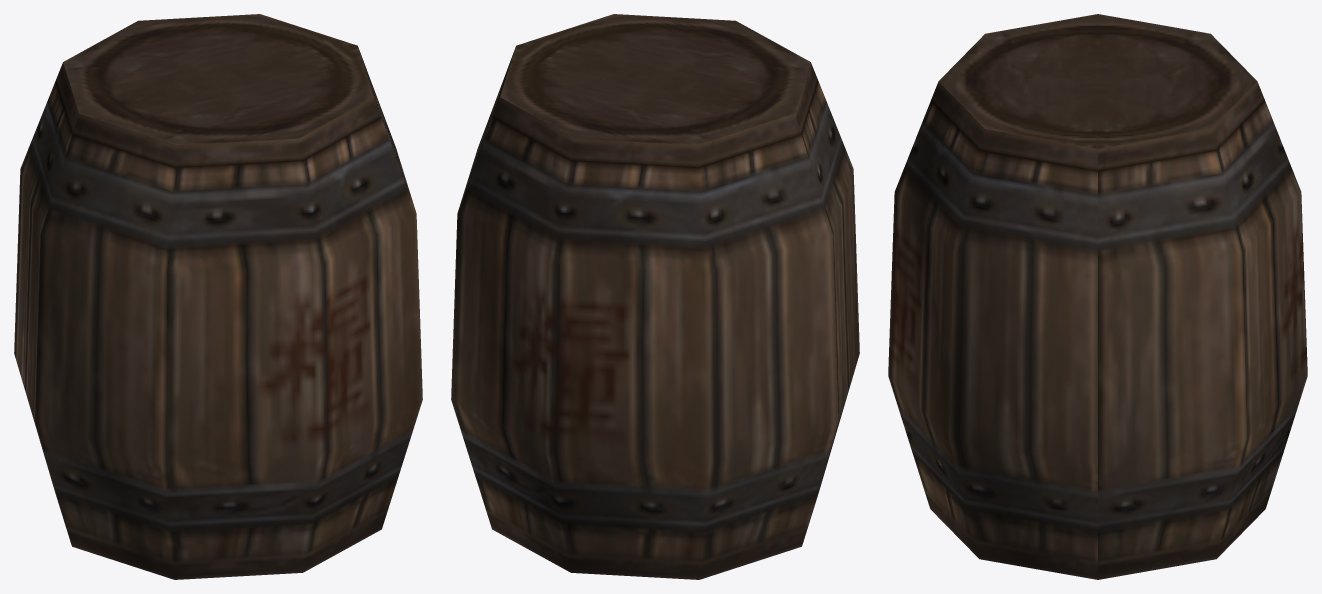
The model's file is muxiang_yc_26.fbx.
3 views of the same model, side by side, from view 1: azimuth 30°, elevation 25°; view 2: azimuth 150°, elevation 25°; view 3: azimuth 270°, elevation 25° (orthographic).
Visible parts, largest first — view 1: muxiang_yc_26; view 2: muxiang_yc_26; view 3: muxiang_yc_26.
Part boxes in pixels (x1,y1,x2,y2): muxiang_yc_26: (14, 14, 422, 579); muxiang_yc_26: (451, 14, 859, 579); muxiang_yc_26: (888, 14, 1307, 579).
Size of what is drawn, in the model's own units: 93.48 by 105 by 93.48.
